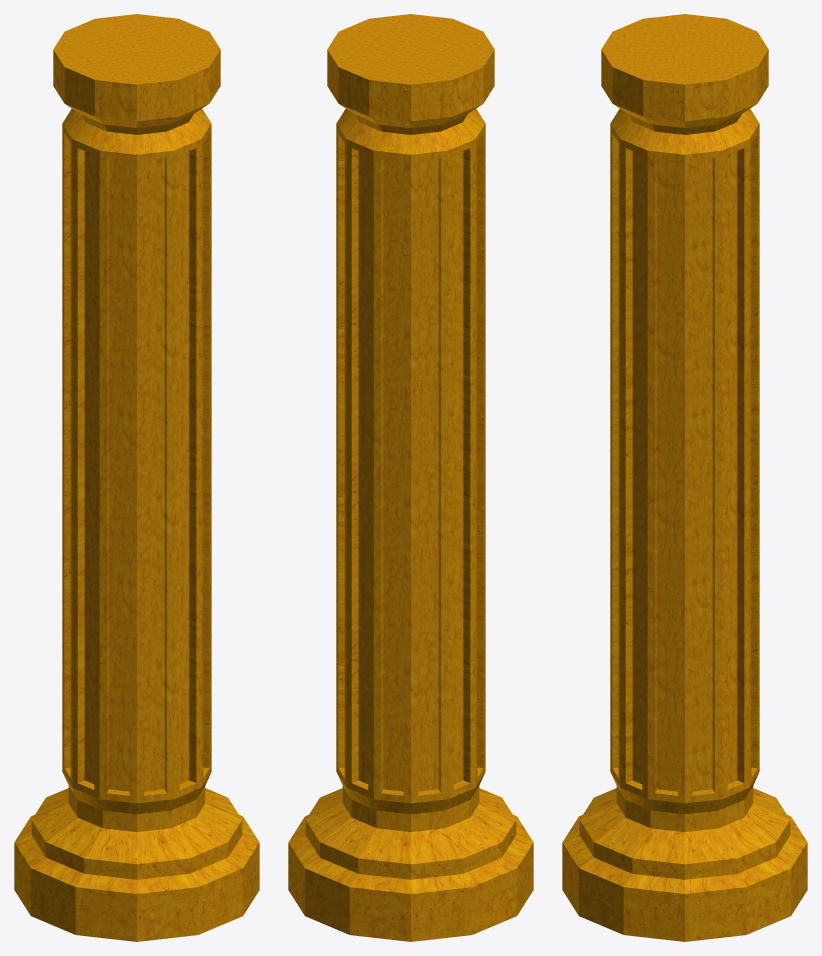
File: pillar_small2.FBX
3 views of the same model, side by side, from view 1: azimuth 30°, elevation 25°; view 2: azimuth 150°, elevation 25°; view 3: azimuth 270°, elevation 25° (orthographic).
Visible parts, largest first — view 1: pillar_small; view 2: pillar_small; view 3: pillar_small.
Part boxes in pixels (x1,y1,x2,y2): pillar_small: (14,14,259,941); pillar_small: (288,14,533,941); pillar_small: (562,14,807,941).
Size of the model in its own units: 16.44 by 62.22 by 16.44.
Materials: 1 (1 with a texture image).
